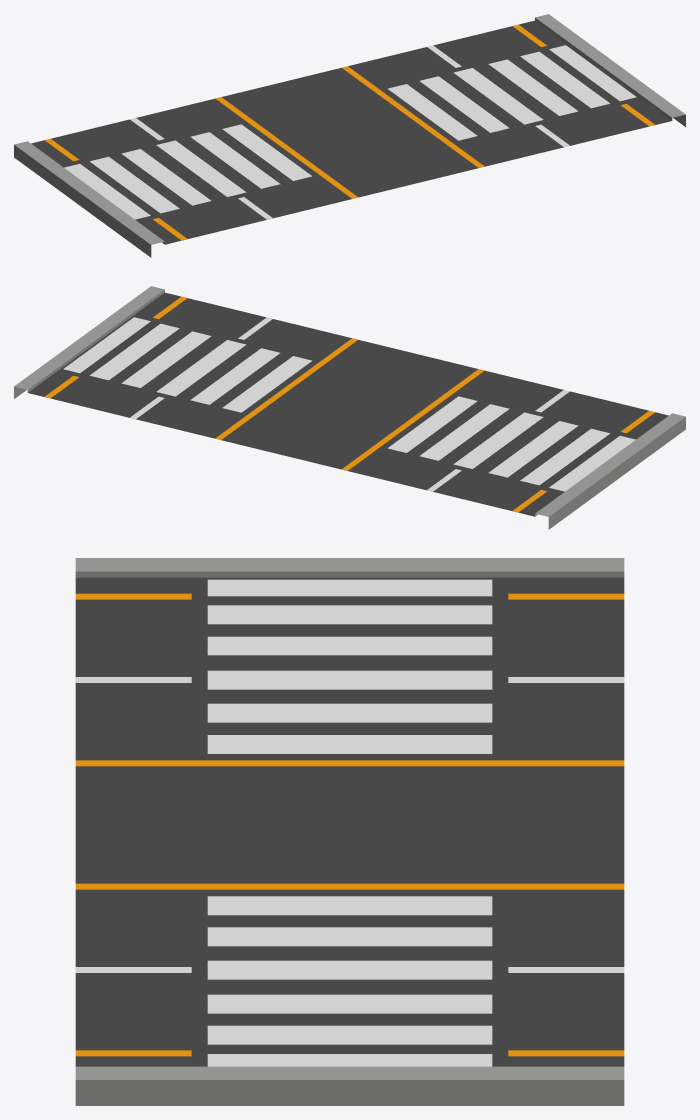
Rendered from Road_A_2L_1_8.fbx.
3 views of the same model, one above another, from view 1: azimuth 30°, elevation 25°; view 2: azimuth 150°, elevation 25°; view 3: azimuth 270°, elevation 25° (orthographic). The views are drawn at different scales.
Parts seen in each view (by area): view 1: Road_A_2L_1_8; view 2: Road_A_2L_1_8; view 3: Road_A_2L_1_8.
Part boxes in pixels (bbox=[...]): Road_A_2L_1_8: bbox=[14, 14, 685, 257]; Road_A_2L_1_8: bbox=[14, 286, 685, 529]; Road_A_2L_1_8: bbox=[75, 558, 624, 1105].
Bounding box in the file's own units: 1800 × 41.48 × 800.
